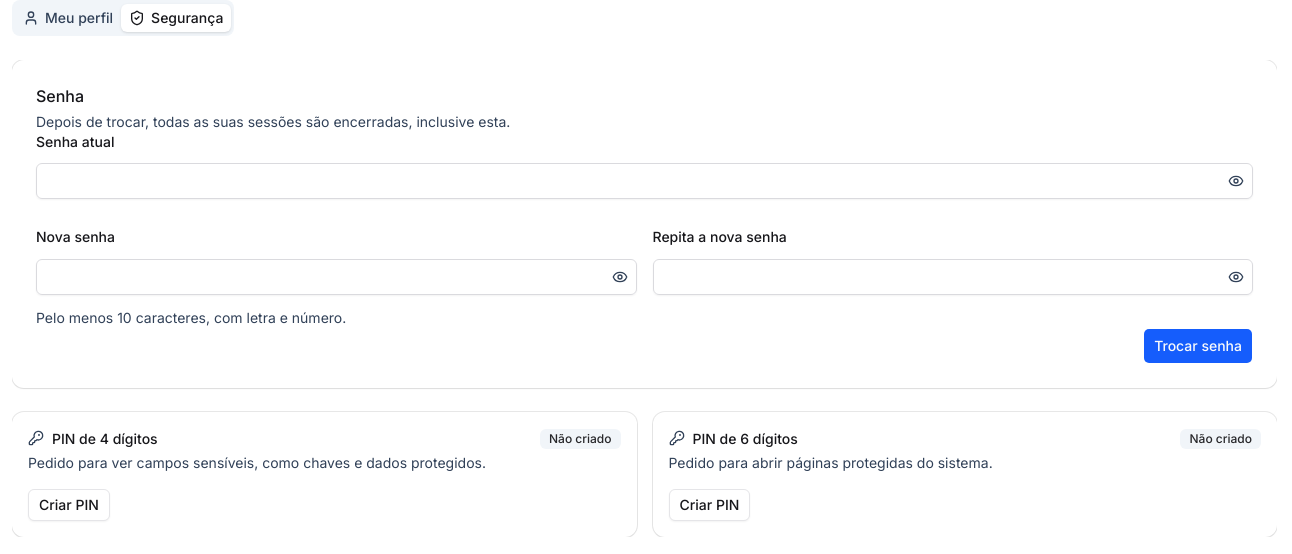
Test case: AccountTabs › confere a troca de senha antes de enviar
Type "SenhaAntiga2026" into the password field labelled "Senha atual" at {"x": 630, "y": 181}, box top-left (37, 163), bottom-right (1224, 199)
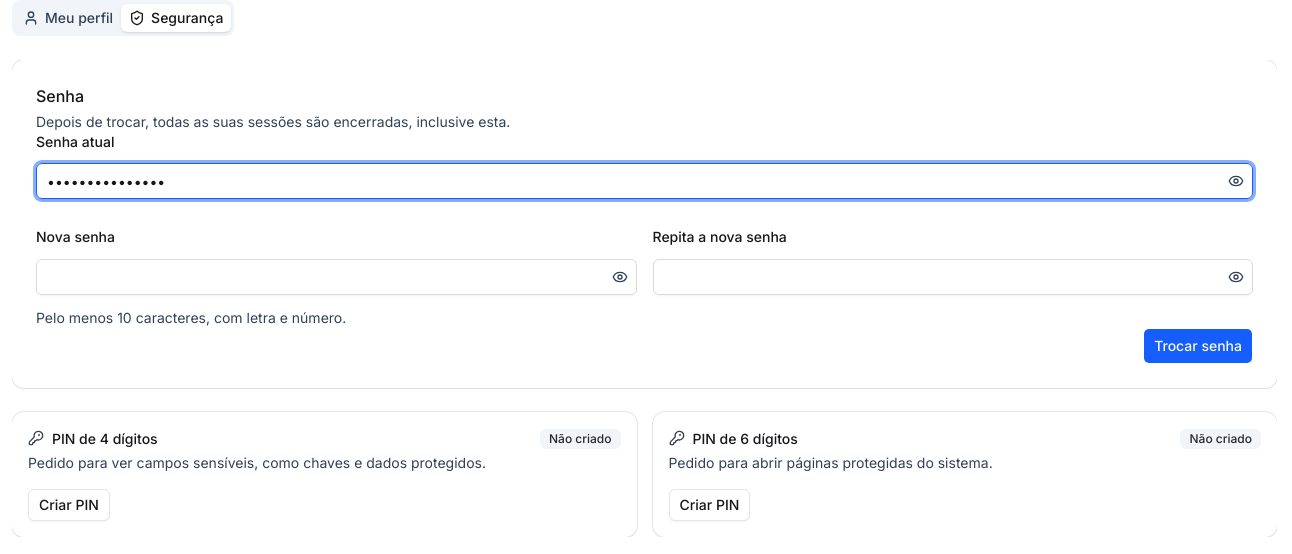
Type "SenhaAntiga2026" into the password field labelled "Nova senha" at {"x": 322, "y": 276}, box top-left (37, 258), bottom-right (608, 294)
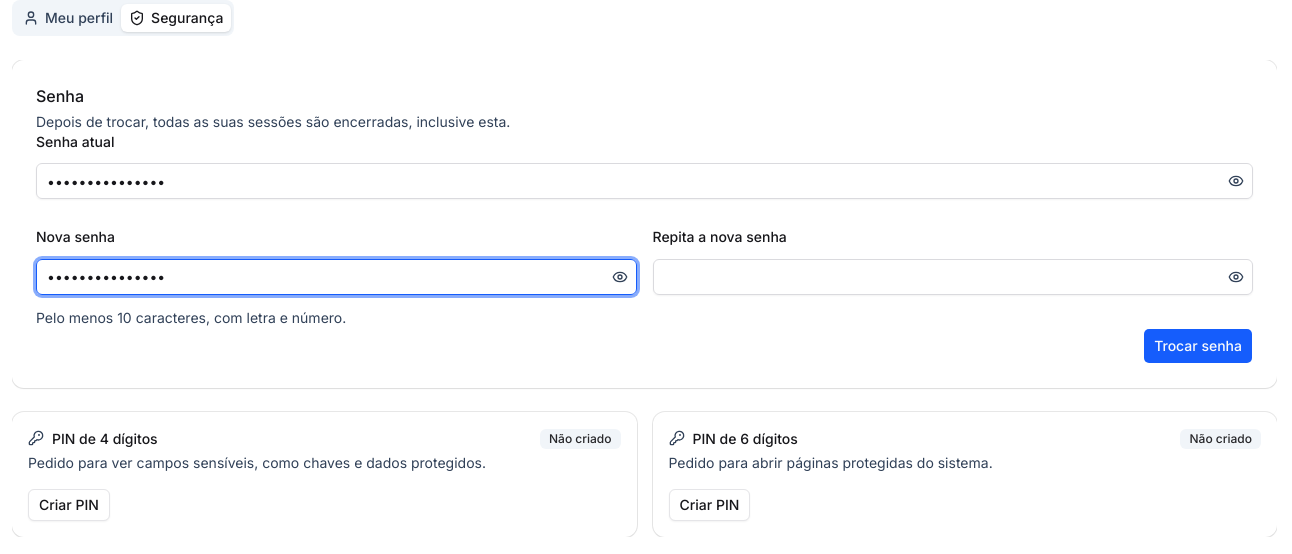
Type "SenhaAntiga2026" into the password field labelled "Repita a nova senha" at {"x": 939, "y": 276}, box top-left (654, 258), bottom-right (1224, 294)
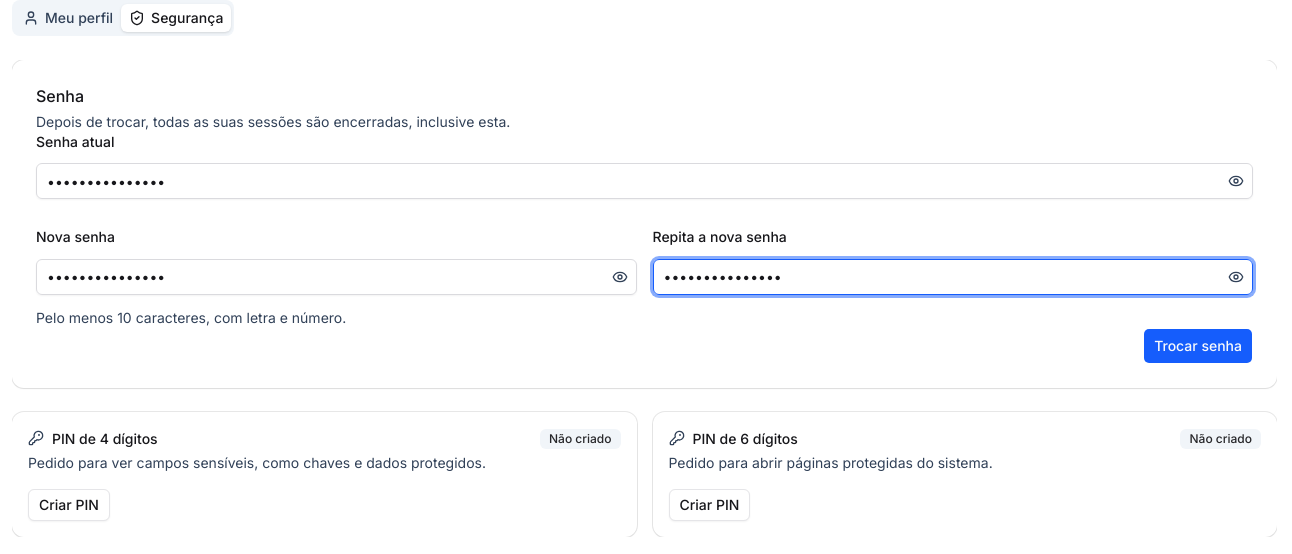
Click the button "Trocar senha" at {"x": 1198, "y": 346}, box top-left (1143, 328), bottom-right (1253, 364)
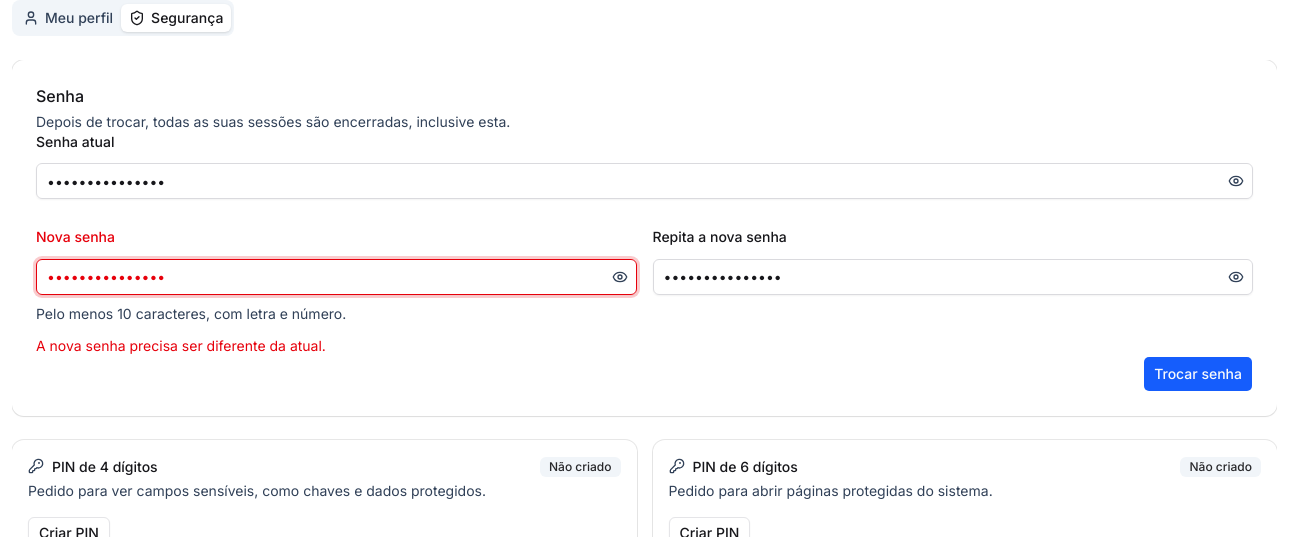
Expected: the text "A nova senha precisa ser diferente da atual." is shown, top-left (36, 336), bottom-right (326, 354)
